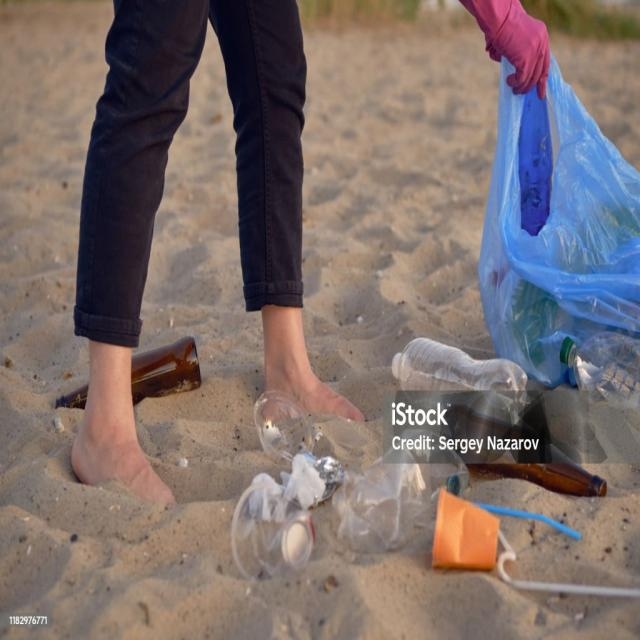7: (226, 473, 318, 591), (423, 472, 506, 592), (431, 485, 500, 579)
Plastic: (474, 51, 640, 388), (382, 328, 531, 425), (552, 322, 640, 417)
